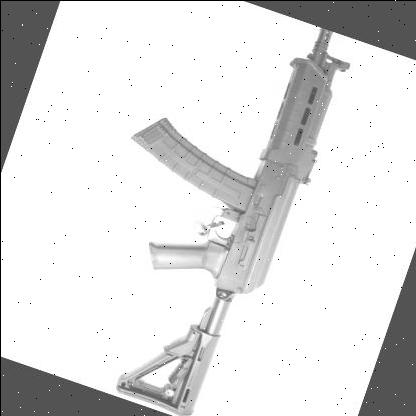rifle: (45, 0, 372, 416)
